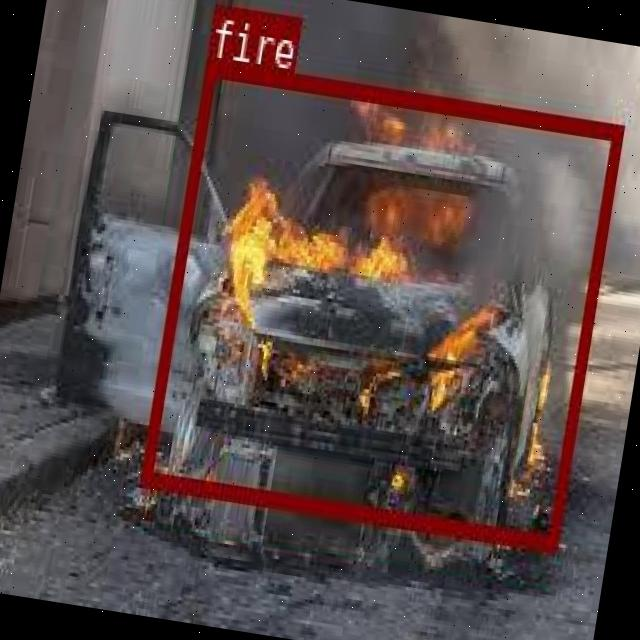fire: (140, 59, 622, 549)
